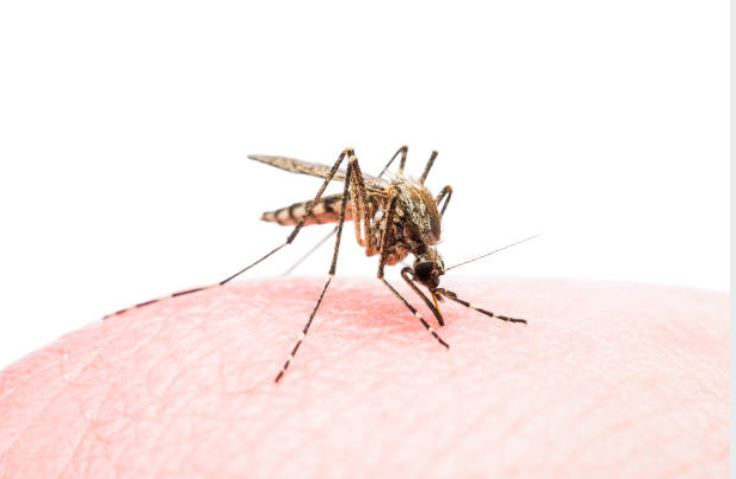dengue_mosquito: (190, 146, 527, 349)
